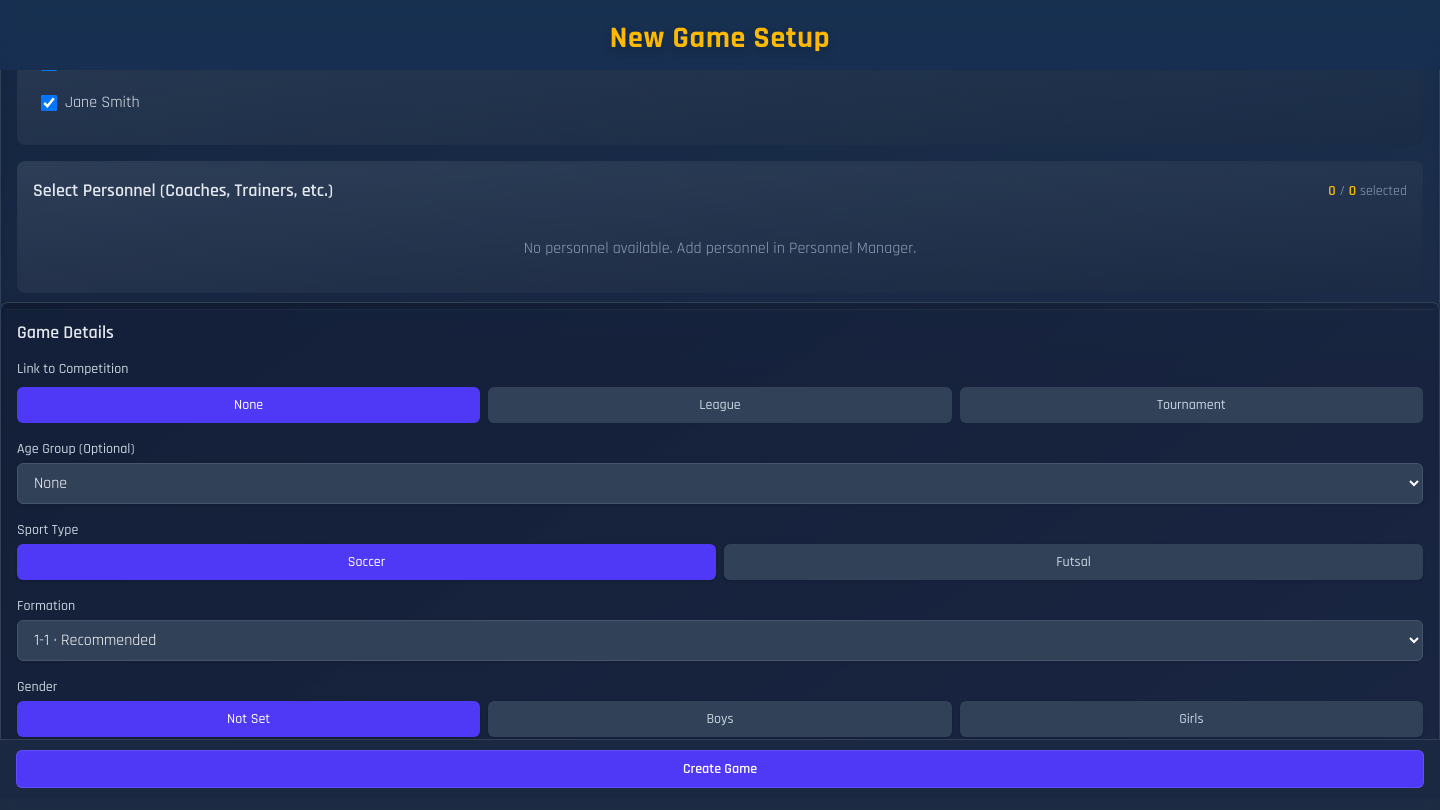
NewGameSetupModal › League Selection › should show league dropdown when season is selected
(page scrolled)
# Switch to season tab
Click the button "League": (720, 404) [488,386,952,422]
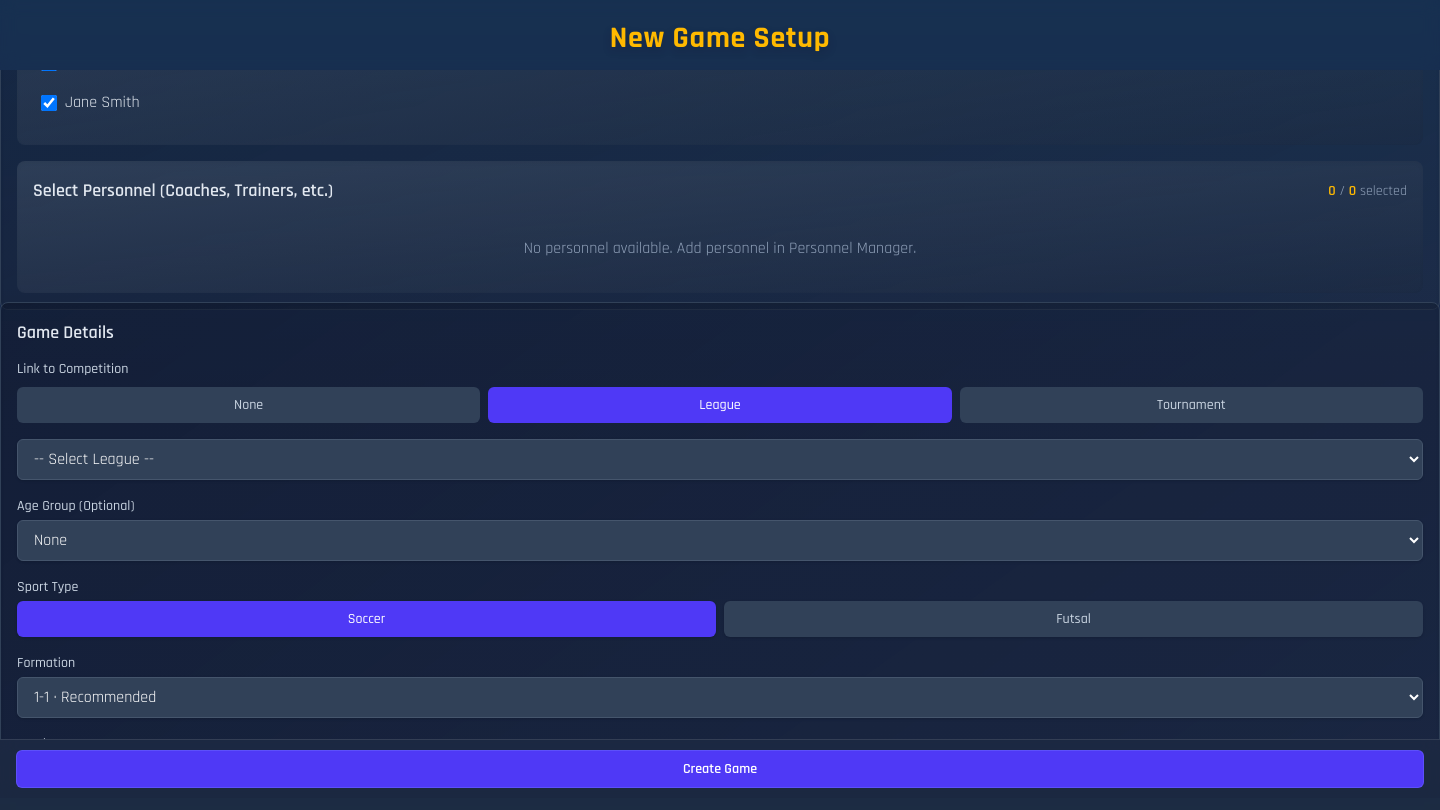
Result: the dropdown with id "seasonSelect" is shown
Select "Spring 2024" in the dropdown with id "seasonSelect": (720, 459) [17,438,1423,480]
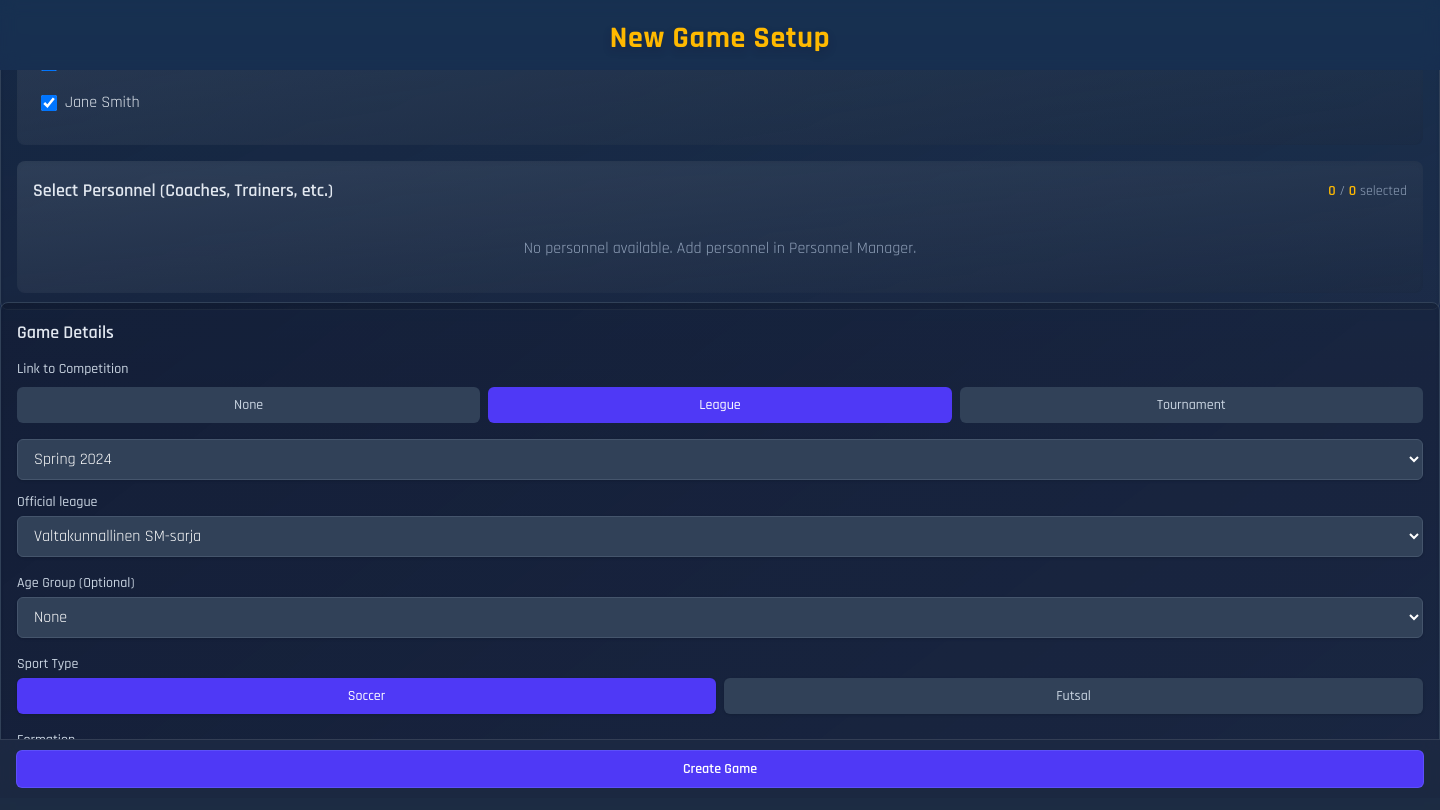
Result: the dropdown with id "leagueSelect" is shown at [17,516,1423,556]
